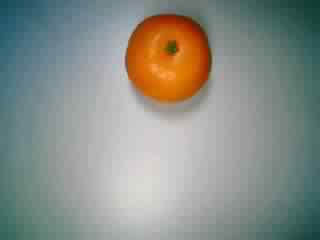orange: (123, 10, 218, 106)
